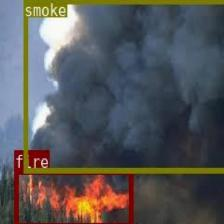fire: (13, 168, 132, 224)
smoke: (22, 0, 224, 172)
